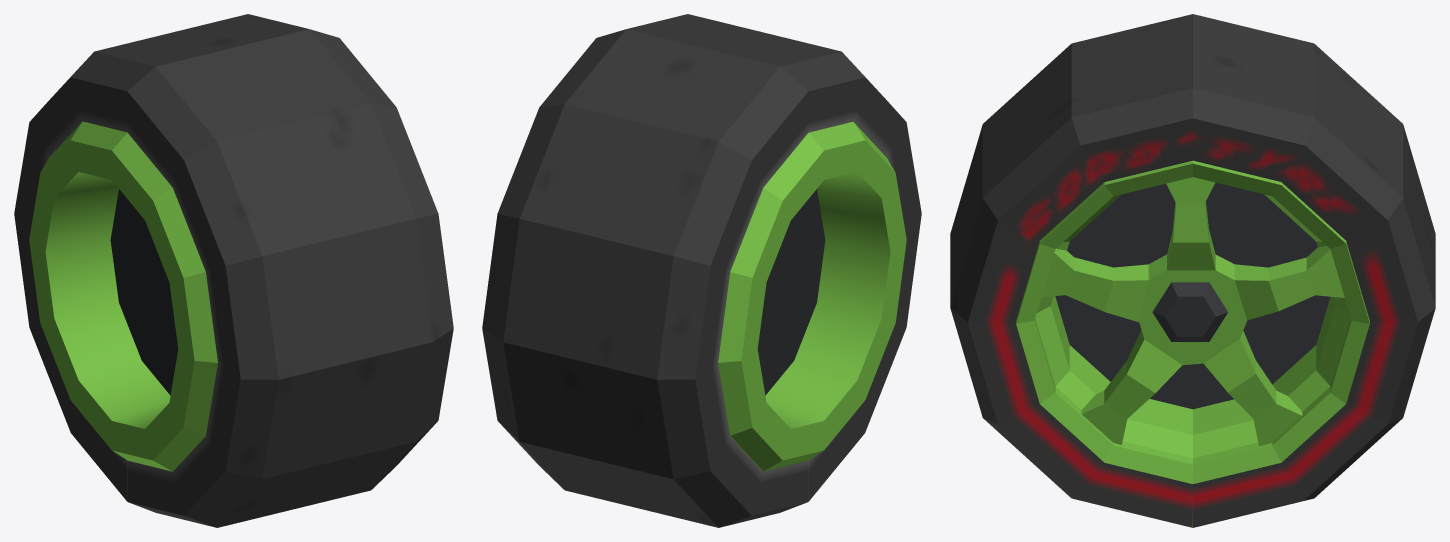
The model's file is SM_Veh_Wheel_Wide_02.fbx.
3 views of the same model, side by side, from view 1: azimuth 30°, elevation 25°; view 2: azimuth 150°, elevation 25°; view 3: azimuth 270°, elevation 25° (orthographic).
Visible parts, largest first — view 1: SM_Veh_Wheel_Wide_02; view 2: SM_Veh_Wheel_Wide_02; view 3: SM_Veh_Wheel_Wide_02.
Part boxes in pixels (<box>): SM_Veh_Wheel_Wide_02: <box>14,14,453,527</box>; SM_Veh_Wheel_Wide_02: <box>482,14,921,527</box>; SM_Veh_Wheel_Wide_02: <box>950,14,1435,527</box>.
Size of the model in its own units: 40.16 by 74.15 by 74.15.
